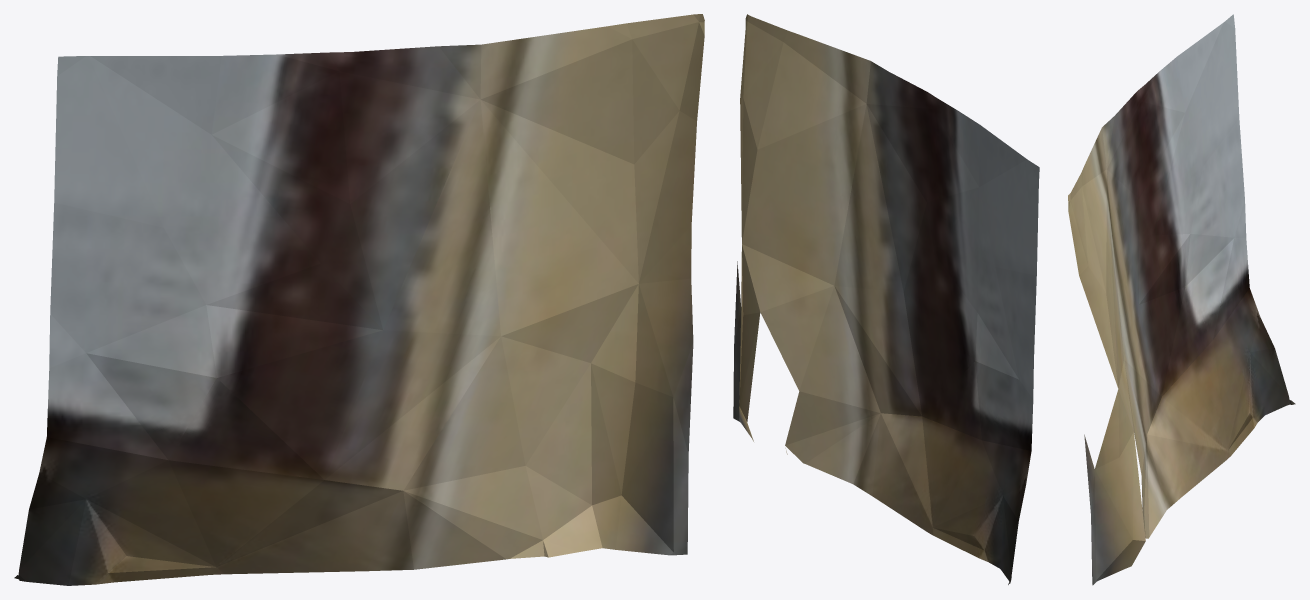
3 renders of one model, left to right at view 1: azimuth 30°, elevation 25°; view 2: azimuth 150°, elevation 25°; view 3: azimuth 270°, elevation 25°, orthographic. The views are drawn at different scales.
Size of the model in its own units: 0.8374 by 0.8374 by 0.443.
Materials: 3 (3 with a texture image).
